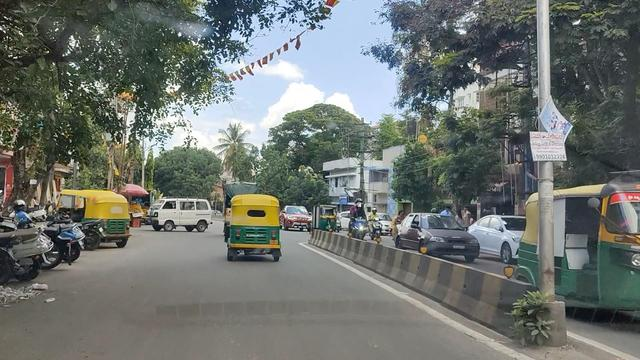LMV: (228, 198, 284, 261), (70, 184, 131, 240), (153, 196, 205, 230)
